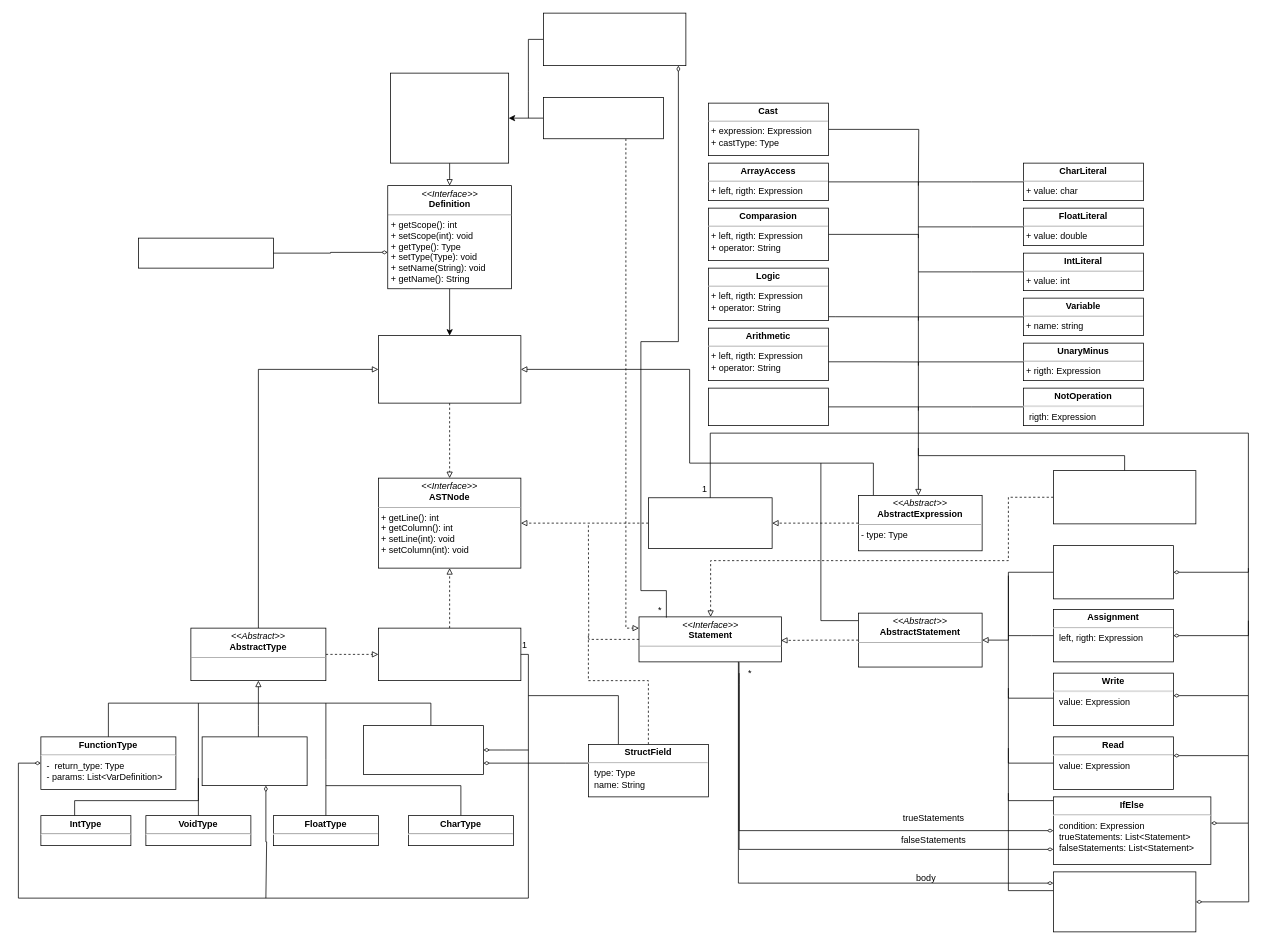
This 1268x945 diagram has some shape labels left out. Each missing label, with the centre of its shape:
"<<Abstract>> AbstractASTNode - line: int - column: int" goes at [449,369].
"<<Abstract>> AbstractDefinition scope: int name; String type: Type" goes at [449,117].
"<<Interface>> Expression" goes at [710,522].
"<<Interface>> Type" goes at [449,654].
"ArrayType size: int type: Type" goes at [254,761].
"FieldAccess + field: Expression" goes at [768,406].
"FunctionDefinition - statement : List<Statement>" goes at [614,39].
"FunctionInvocation parameters: List<Expression> name: Variable" goes at [1124,497].
"Program" goes at [205,252].
"Return value: Expression" goes at [1113,572].
"StructType fields: List<StructField> type: Type" goes at [423,749].
"VarDefinition offset: int;" goes at [603,118].
"While condition: Expression statements: Statement" goes at [1124,901].
